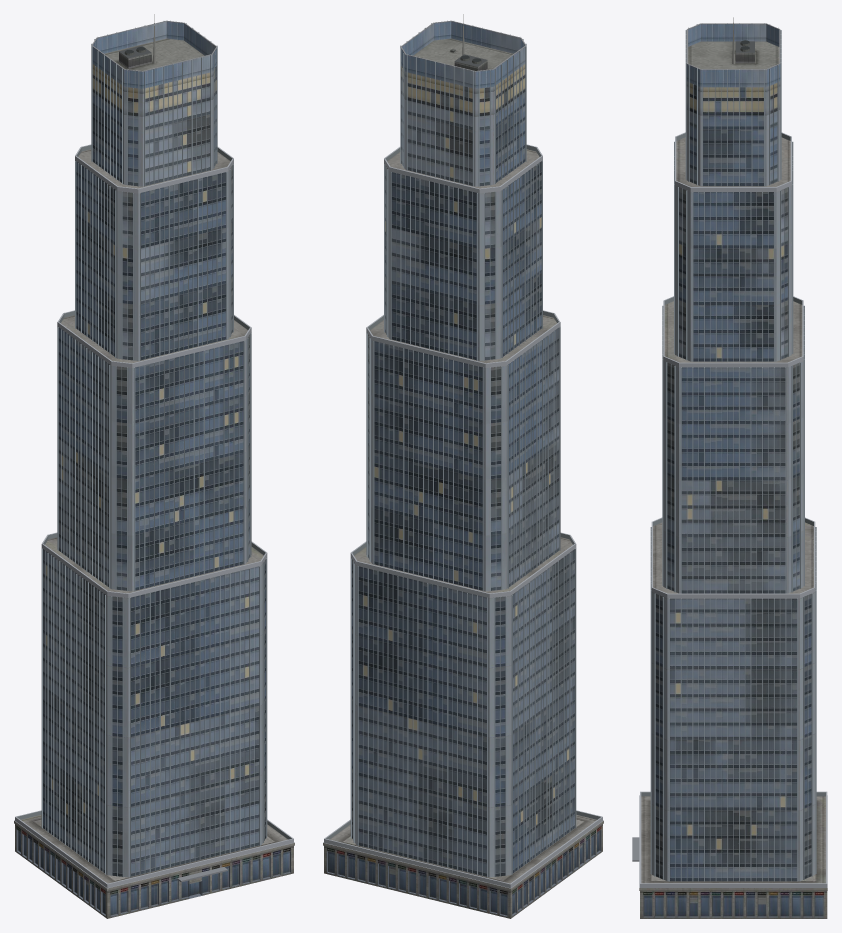
Rendered from seattle_glasstower_d.glb.
3 renders of one model, left to right at view 1: azimuth 30°, elevation 25°; view 2: azimuth 150°, elevation 25°; view 3: azimuth 270°, elevation 25°, orthographic.
Visible parts, largest first — view 1: seattle_glasstower_d; view 2: seattle_glasstower_d; view 3: seattle_glasstower_d.
Part boxes in pixels (left/top/right/bottom): seattle_glasstower_d: left=14, top=14, right=294, bottom=918; seattle_glasstower_d: left=323, top=14, right=603, bottom=918; seattle_glasstower_d: left=632, top=17, right=827, bottom=918.
Size of the model in its own units: 56.3 by 243 by 50.13.
1 material, 1 textured.
